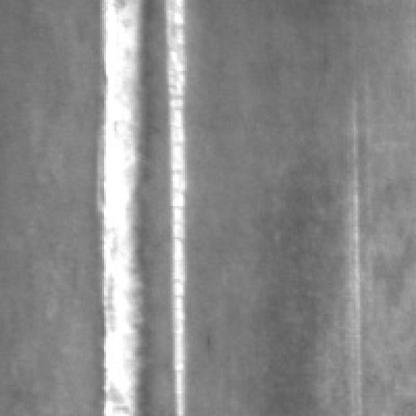scratches: (98, 0, 150, 412), (165, 0, 194, 412), (348, 81, 368, 412)
